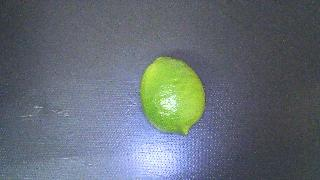EXPORTACION: (140, 57, 205, 135)
